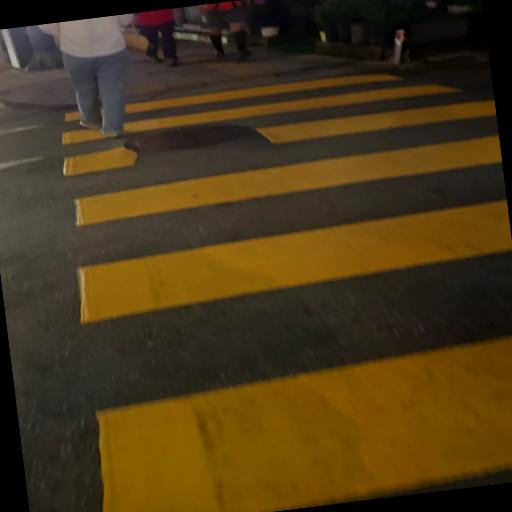yellow-crosswalk: (6, 40, 512, 512)
